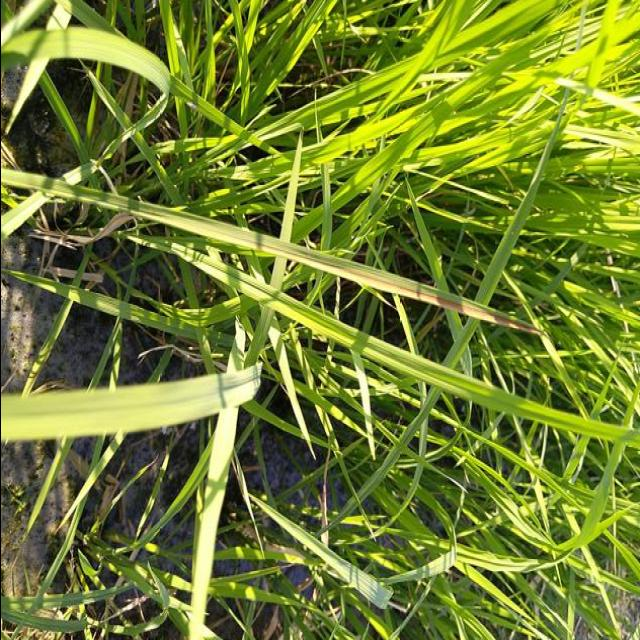Leaf Streak: (242, 232, 536, 332)
